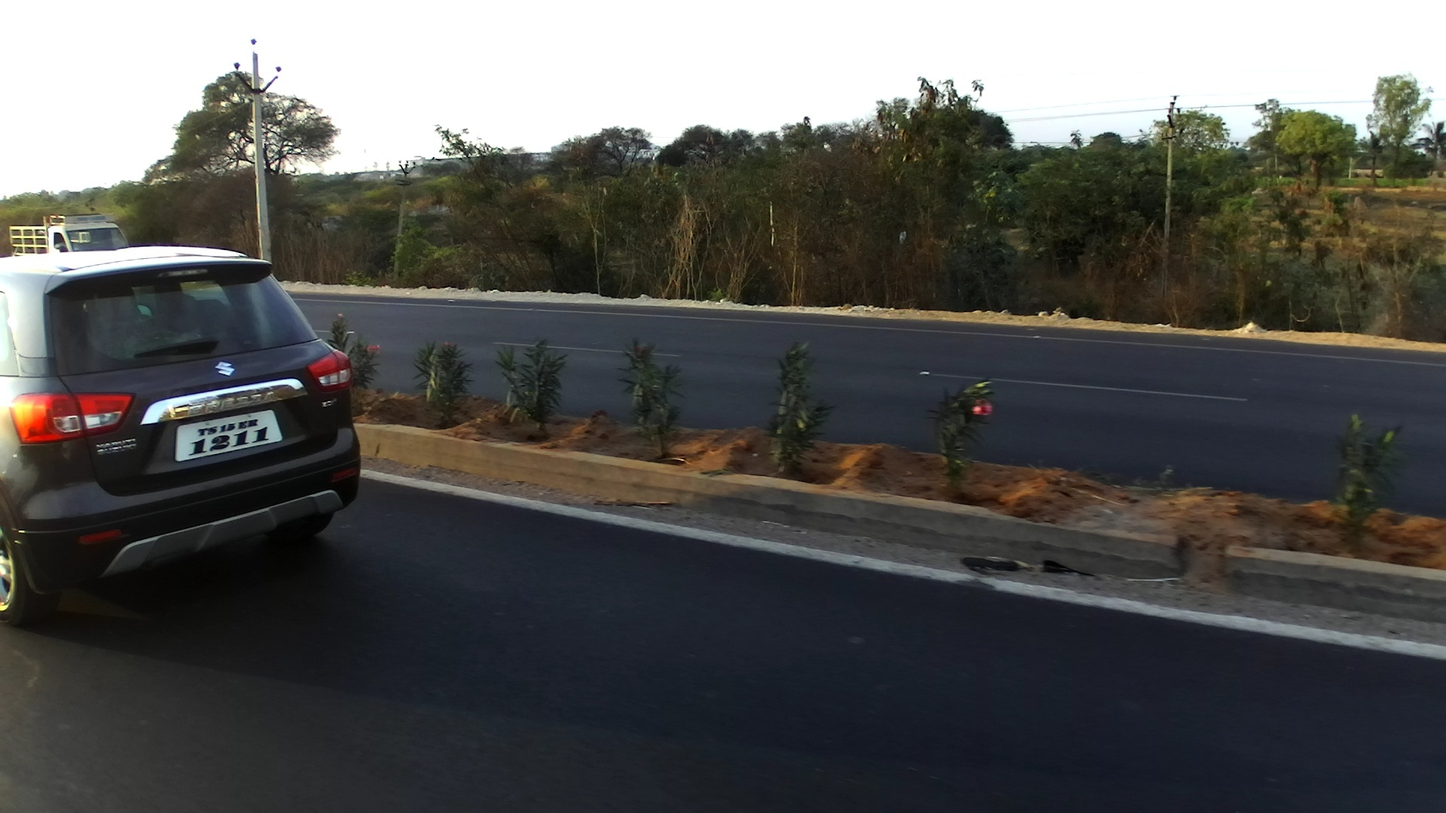car: (1, 245, 358, 624)
truck: (8, 212, 130, 272)
